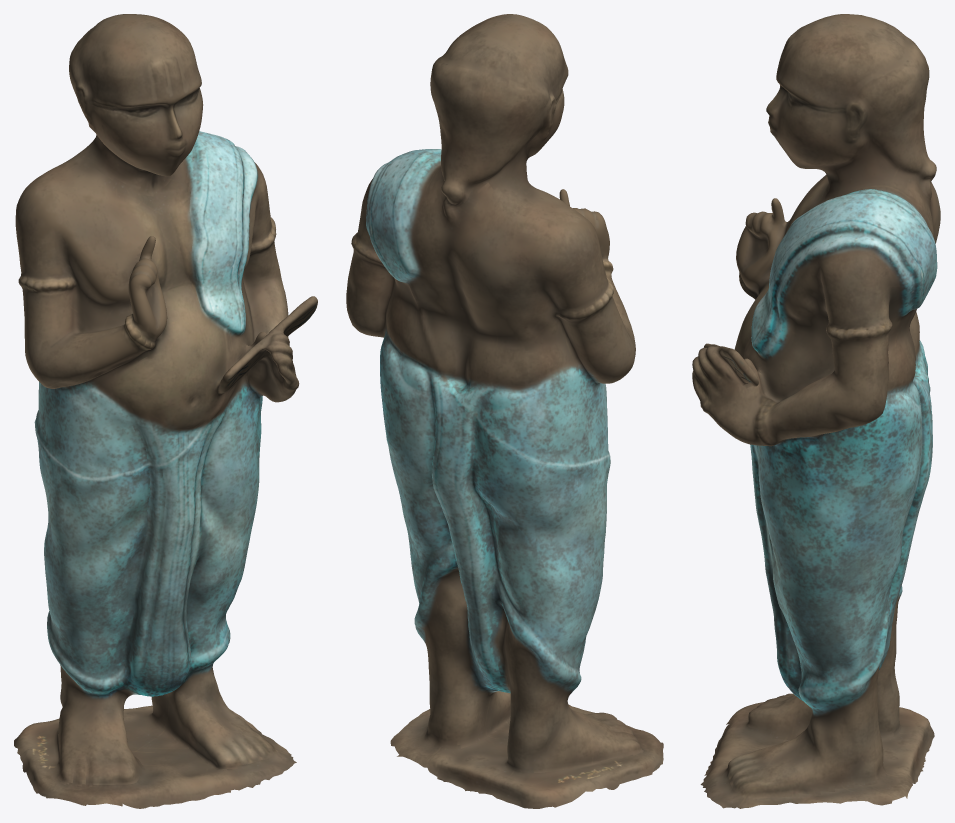
The model's file is Pandit.glb.
3 renders of one model, left to right at view 1: azimuth 30°, elevation 25°; view 2: azimuth 150°, elevation 25°; view 3: azimuth 270°, elevation 25°, orthographic. The views are drawn at different scales.
Visible parts, largest first — view 1: Pandit; view 2: Pandit; view 3: Pandit.
Part boxes in pixels (x1,y1,x2,y2): Pandit: (14,14,317,808); Pandit: (346,14,663,808); Pandit: (692,14,940,808).
Size of the model in its own units: 4.13 by 10.65 by 3.2.
1 material, 1 textured.
